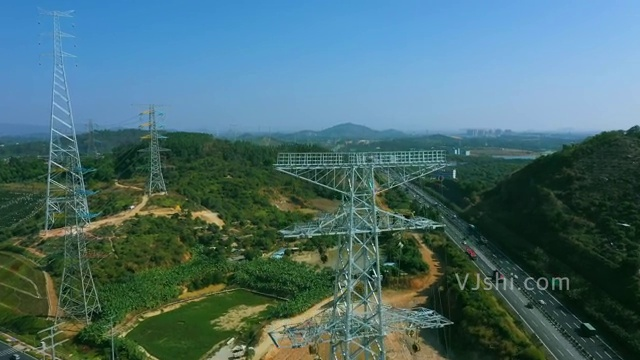tower_body: (263, 142, 461, 360), (31, 8, 98, 228), (137, 105, 174, 194)
tower_head: (267, 144, 454, 235)
